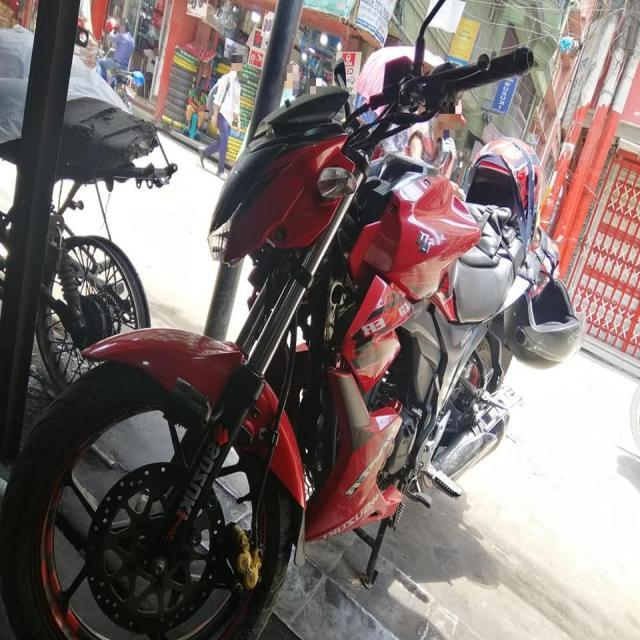Motorbike: (1, 33, 611, 637)
